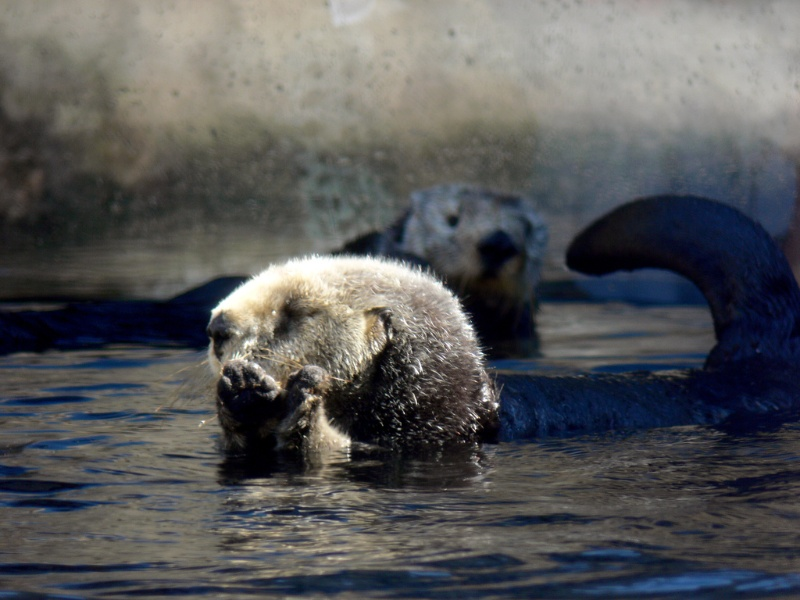minkish: (418, 191, 540, 292)
